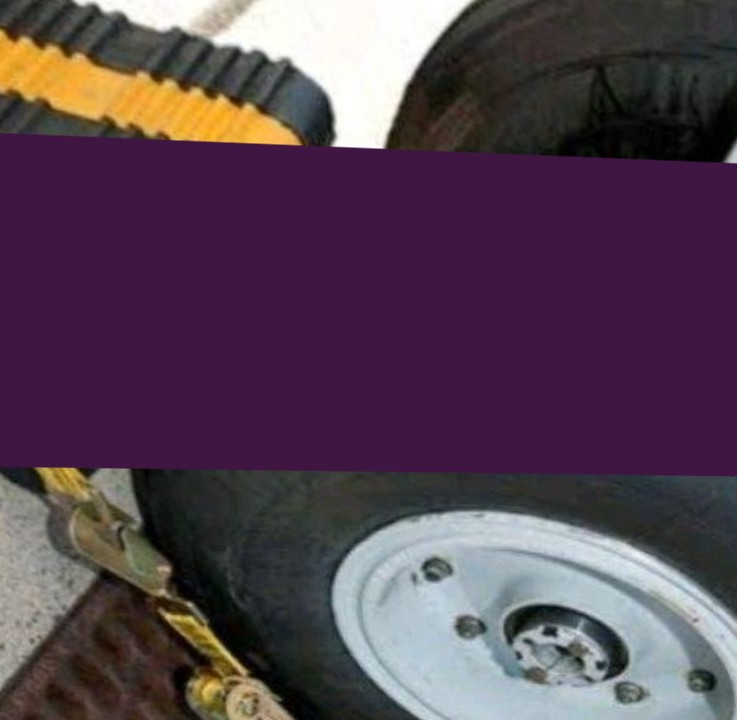chock: (0, 0, 373, 504)
wheel: (113, 190, 737, 720), (374, 0, 737, 385)
